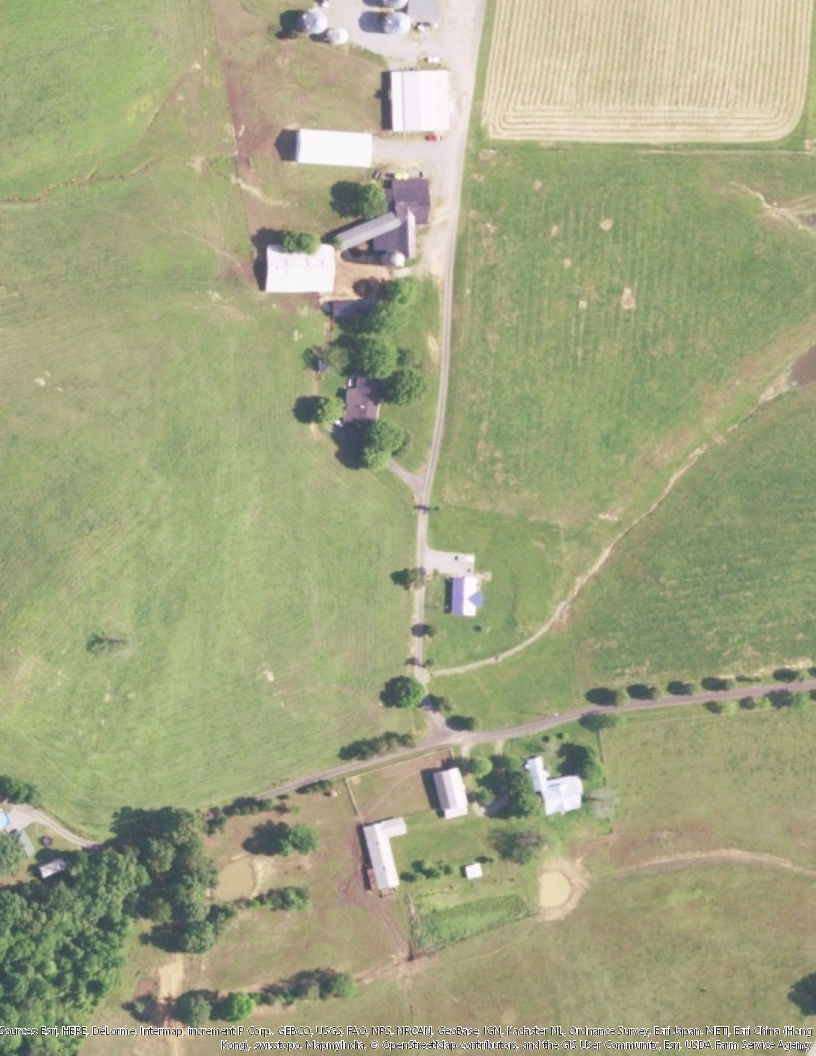cafo: (377, 63, 463, 143), (257, 238, 346, 297), (283, 120, 382, 171)
